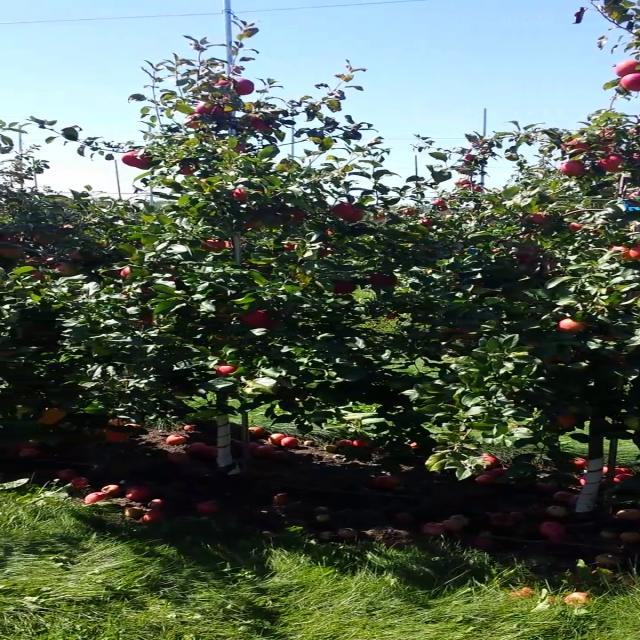apple: (556, 317, 586, 335), (595, 127, 616, 152), (596, 154, 625, 172), (34, 407, 66, 423), (121, 150, 152, 166), (239, 309, 269, 325), (614, 59, 639, 77), (368, 272, 397, 286), (195, 101, 223, 115), (561, 140, 589, 154), (48, 262, 76, 276), (215, 360, 238, 376), (514, 248, 540, 262), (619, 73, 639, 91), (175, 160, 200, 174), (560, 160, 584, 174), (553, 415, 577, 429), (235, 78, 254, 95), (182, 112, 202, 128), (456, 329, 482, 341), (200, 239, 225, 251), (246, 320, 276, 330), (249, 116, 270, 130), (103, 431, 127, 443), (332, 203, 354, 216), (341, 209, 363, 221), (332, 282, 354, 294), (134, 313, 154, 325), (231, 188, 246, 202), (624, 417, 639, 431), (31, 234, 50, 245), (528, 212, 548, 222), (24, 256, 44, 266), (540, 354, 560, 364), (162, 266, 175, 280), (629, 240, 639, 258), (0, 247, 20, 256), (66, 248, 80, 260), (28, 270, 42, 281), (292, 209, 304, 221), (244, 220, 262, 228), (119, 266, 131, 278), (0, 235, 20, 242), (213, 77, 230, 85), (134, 160, 151, 168), (622, 251, 638, 259), (608, 245, 629, 251), (567, 222, 581, 230), (628, 152, 639, 162), (235, 142, 245, 152), (223, 238, 233, 248), (283, 243, 295, 251), (320, 248, 332, 256), (319, 241, 331, 248), (628, 127, 638, 135), (44, 256, 54, 264), (324, 228, 334, 235), (198, 178, 206, 184)
